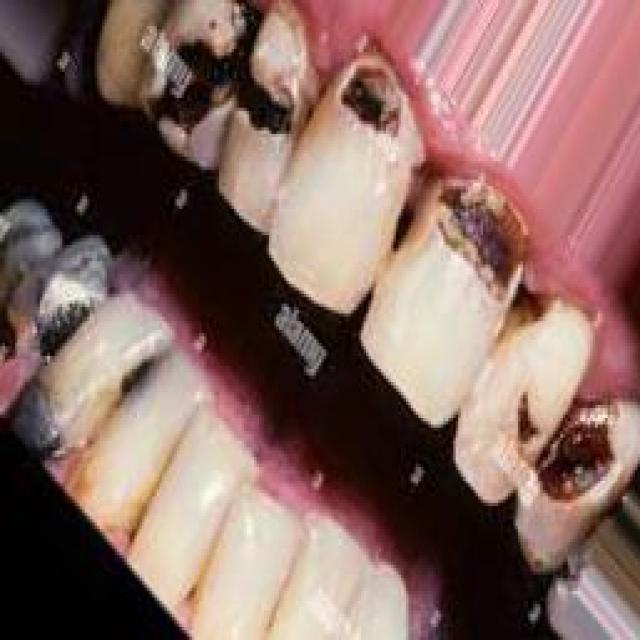caries: (420, 152, 540, 320), (510, 371, 626, 516), (325, 19, 417, 166), (143, 5, 232, 142), (235, 2, 312, 146), (372, 142, 432, 286), (106, 308, 180, 416)
